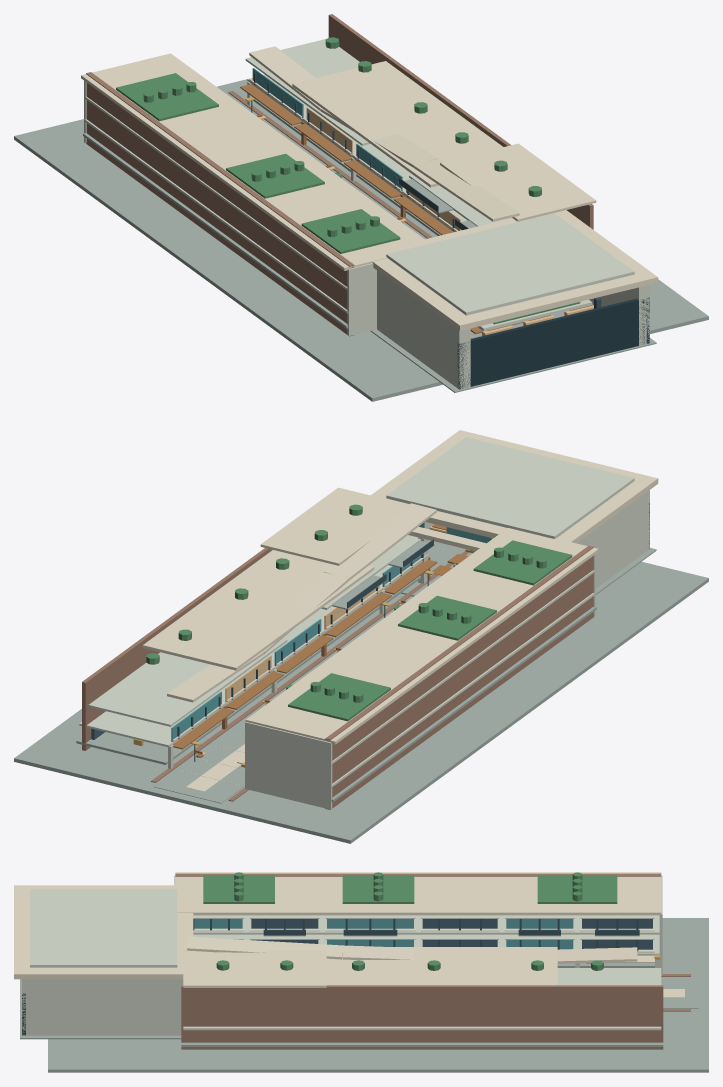
The model's file is a41_street_first.obj.
The picture shows the model from 3 angles, top to bottom: view 1: azimuth 30°, elevation 25°; view 2: azimuth 150°, elevation 25°; view 3: azimuth 270°, elevation 25°; orthographic projection. The views are drawn at different scales.
Size of the model in its own units: 90 by 20.93 by 174.
